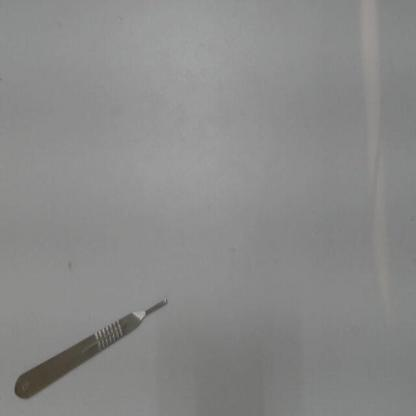No.3 BP Handle: (8, 284, 179, 408)
